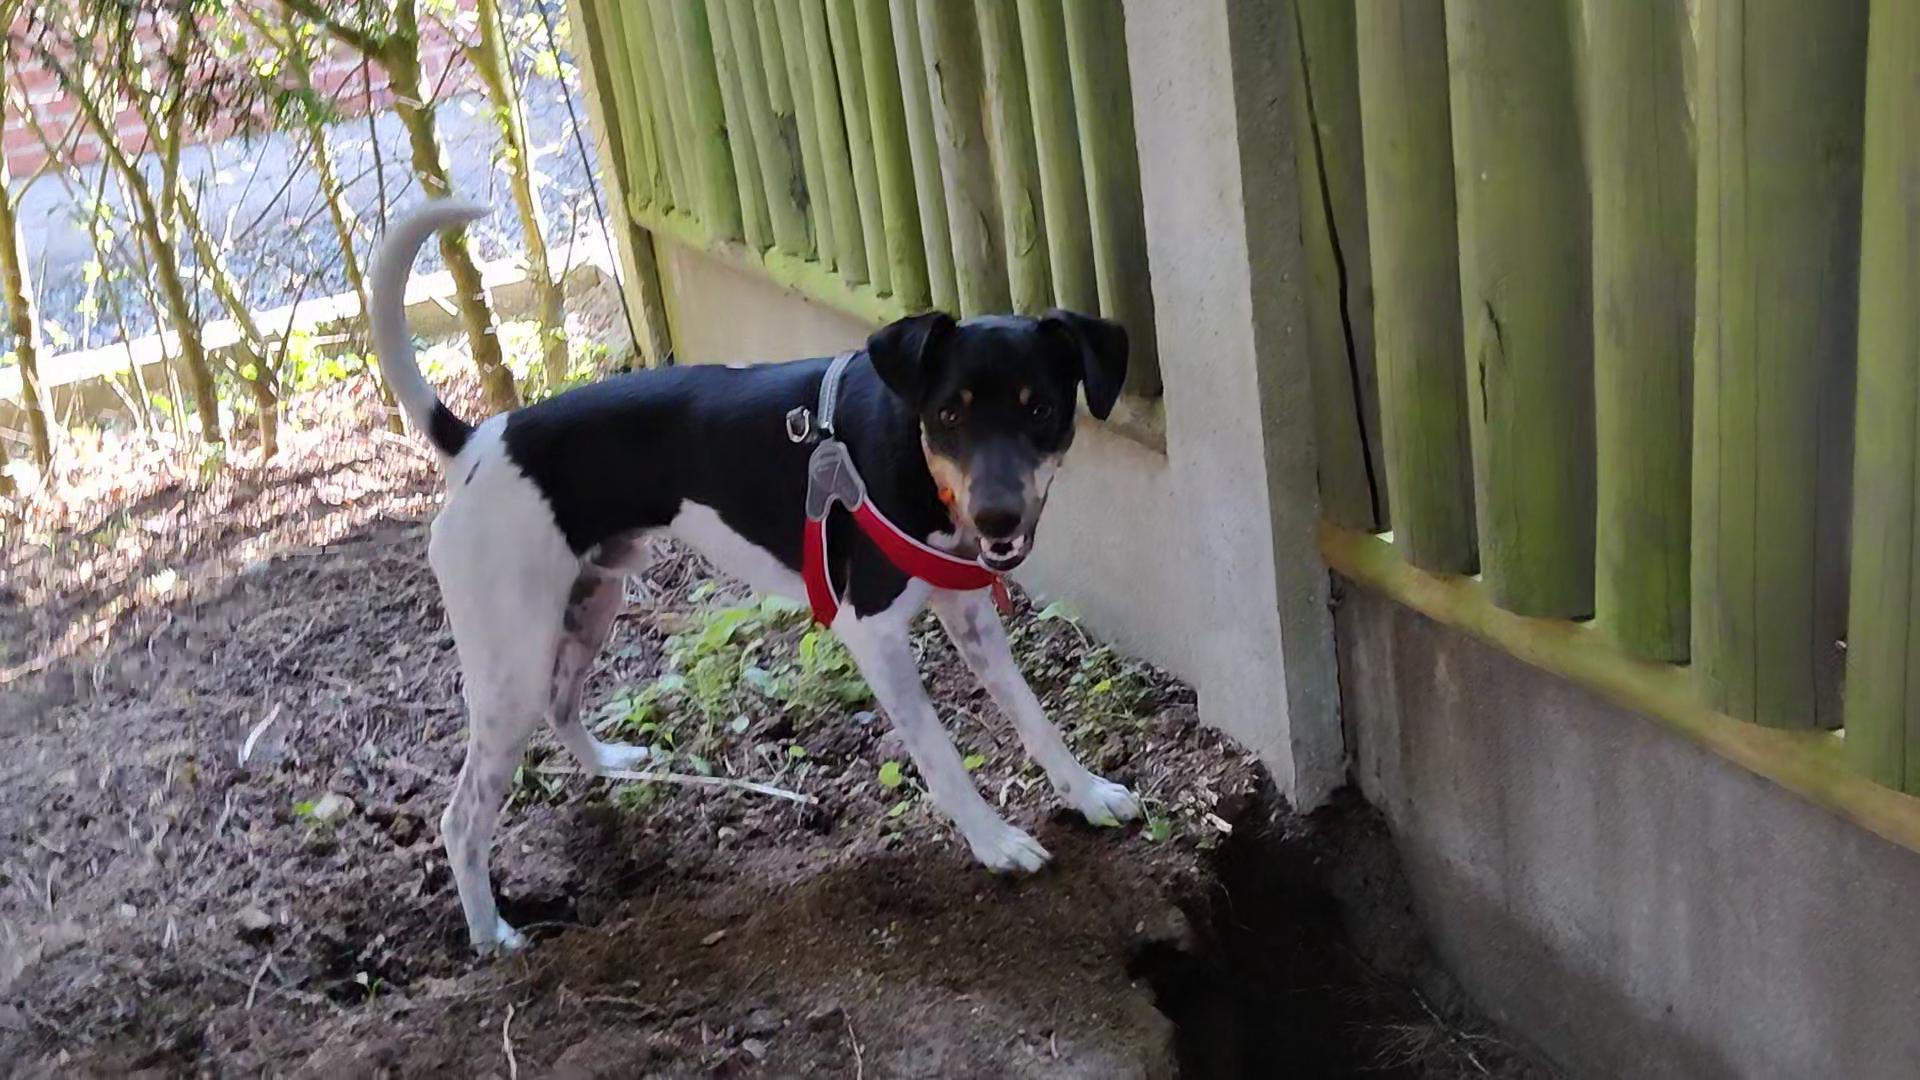Dog: (331, 160, 1163, 955)
